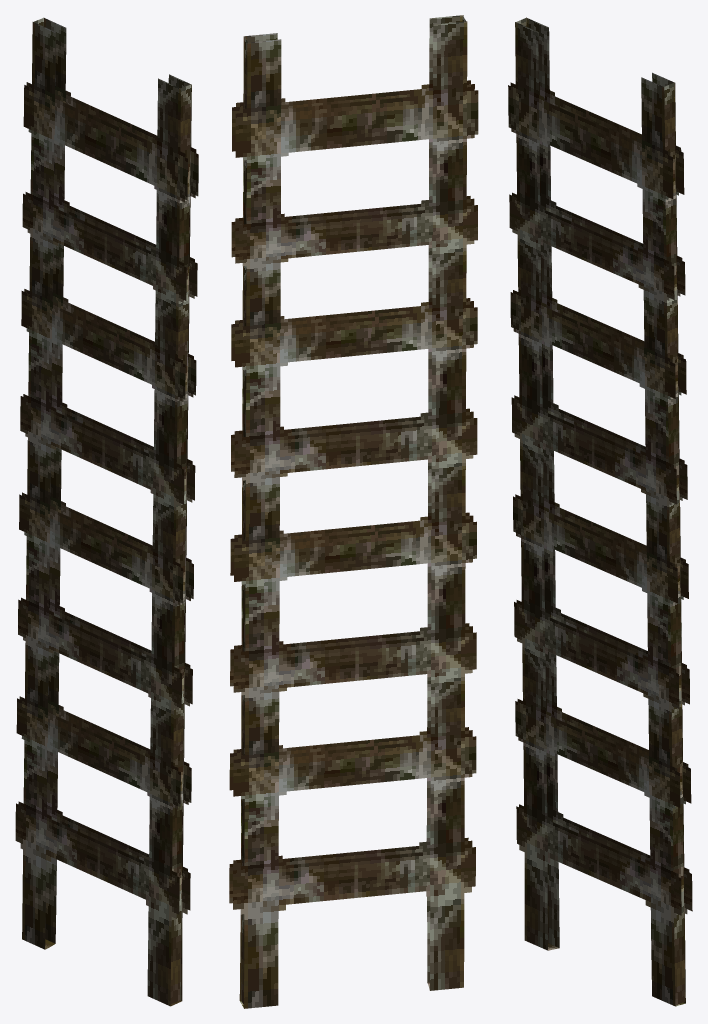
File: GHOST_LADDER.obj
3 views of the same model, side by side, from view 1: azimuth 90°, elevation 25°; view 2: azimuth 150°, elevation 25°; view 3: azimuth 270°, elevation 25° (orthographic). The views are drawn at different scales.
Visible parts, largest first — view 1: GHOST_LADDER.001; view 2: GHOST_LADDER.001; view 3: GHOST_LADDER.001.
Boxes of the visible parts, box(x1,y1,x2,y2) form: GHOST_LADDER.001: box(15, 17, 198, 1006); GHOST_LADDER.001: box(229, 15, 478, 1008); GHOST_LADDER.001: box(508, 17, 692, 1006).
Bounding box in the file's own units: 0.6416 × 3.51 × 0.6411.
